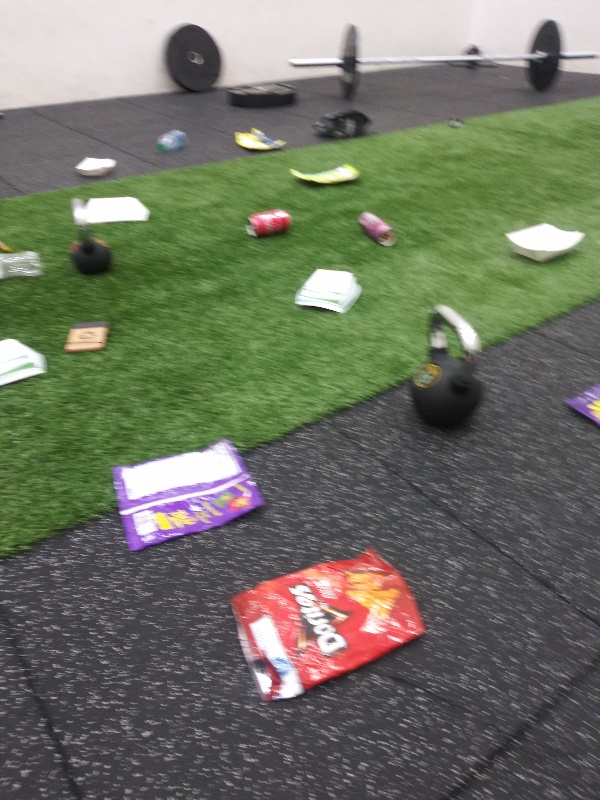bag: (227, 544, 430, 708), (109, 436, 269, 558), (563, 380, 600, 438), (285, 163, 362, 190), (230, 125, 290, 154)
bottle: (1, 248, 48, 284), (151, 125, 191, 154)
can: (238, 206, 297, 240), (354, 208, 397, 251)
plate: (289, 265, 367, 317), (501, 220, 586, 264), (1, 335, 48, 393), (83, 193, 154, 223), (74, 154, 121, 178)
